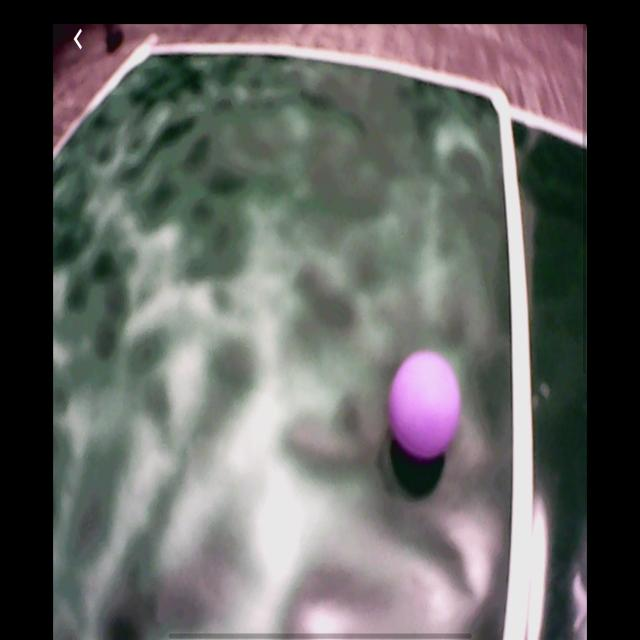ball: (386, 352, 463, 458)
